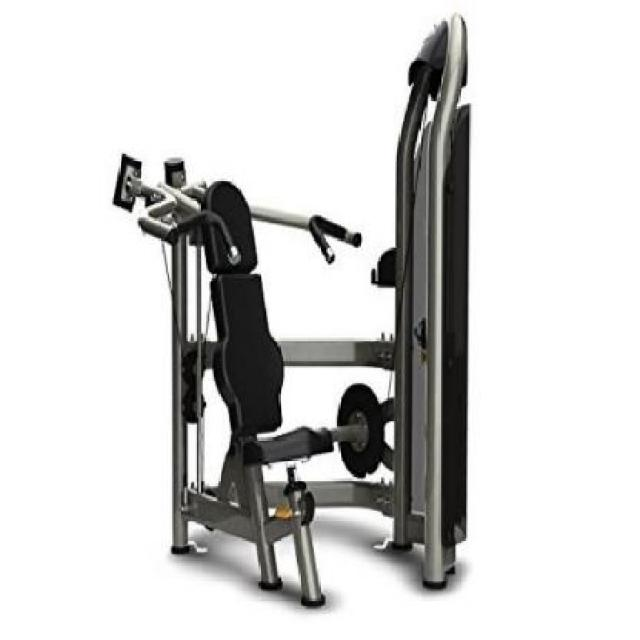shoulder press machine: (114, 11, 472, 615)
